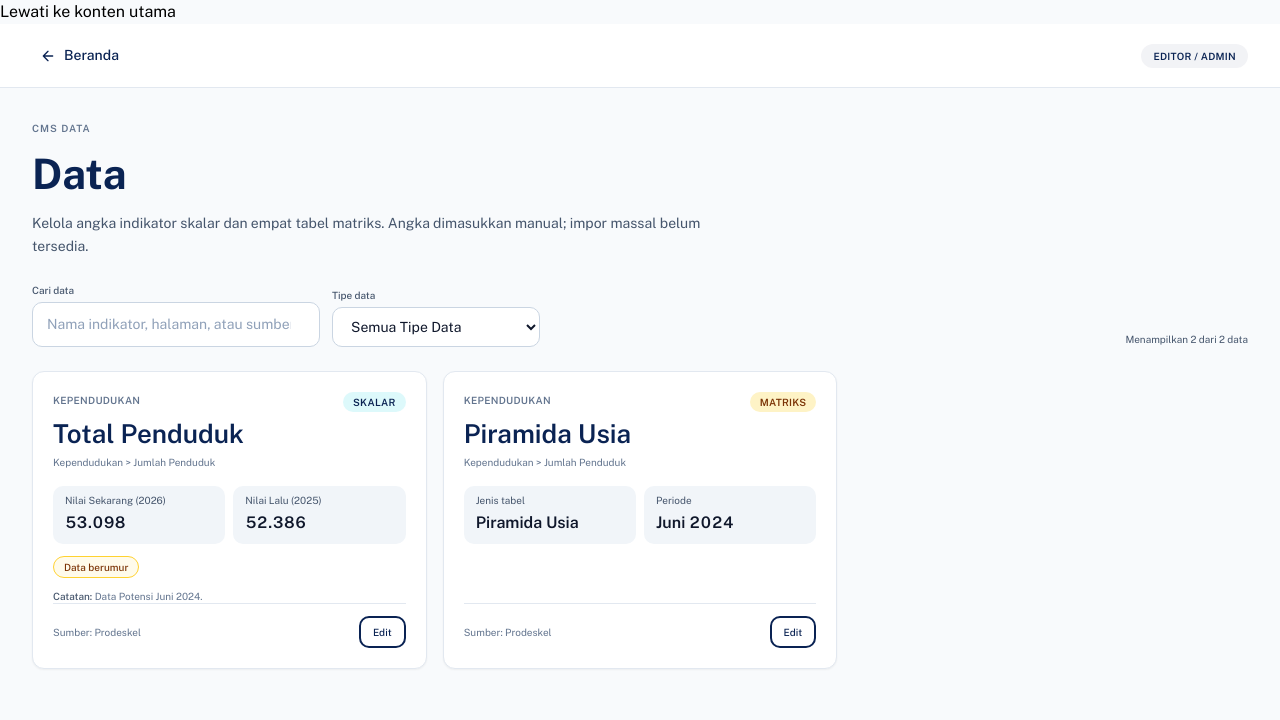
Test: DataManagementView.vue › keeps every unsaved row draft when the table save fails
Click the button "Edit" below "Jenis tabel" at {"x": 793, "y": 632}, box [770,616,816,648]
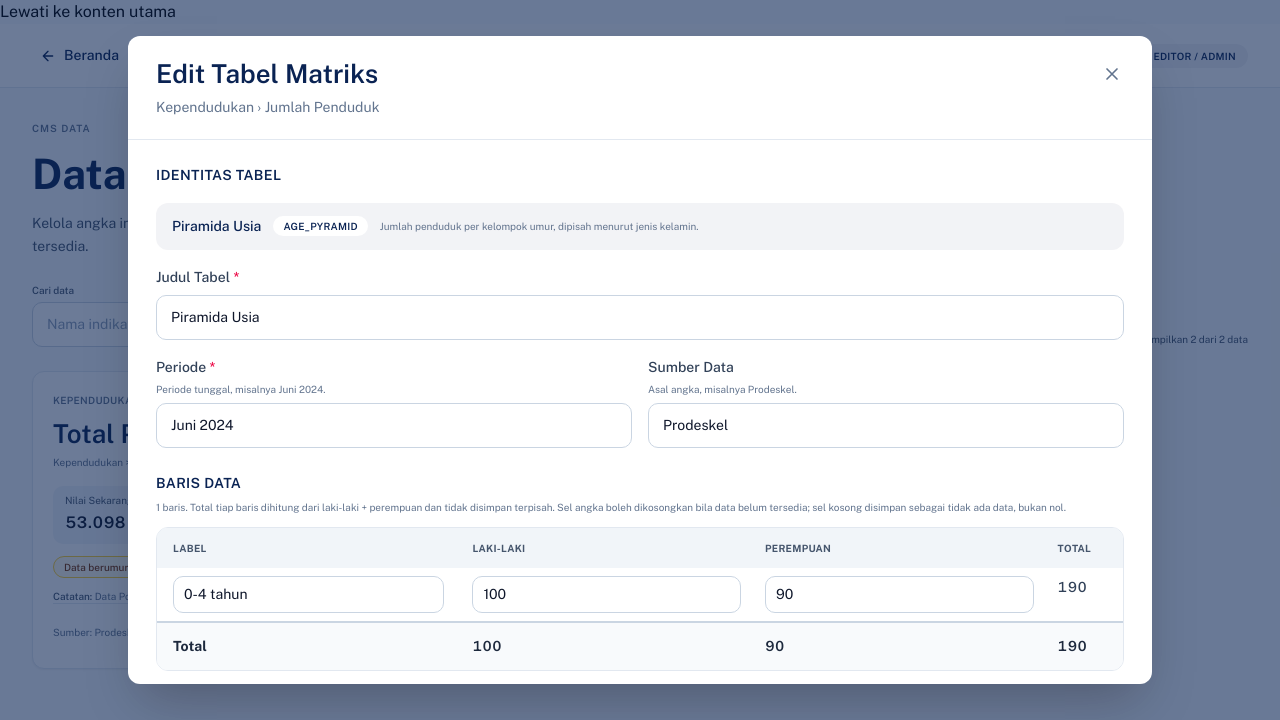
Replace the text in the field with id "table-row-row-1-male" with "250" at {"x": 607, "y": 594}, box [472,576,741,612]
(page scrolled)
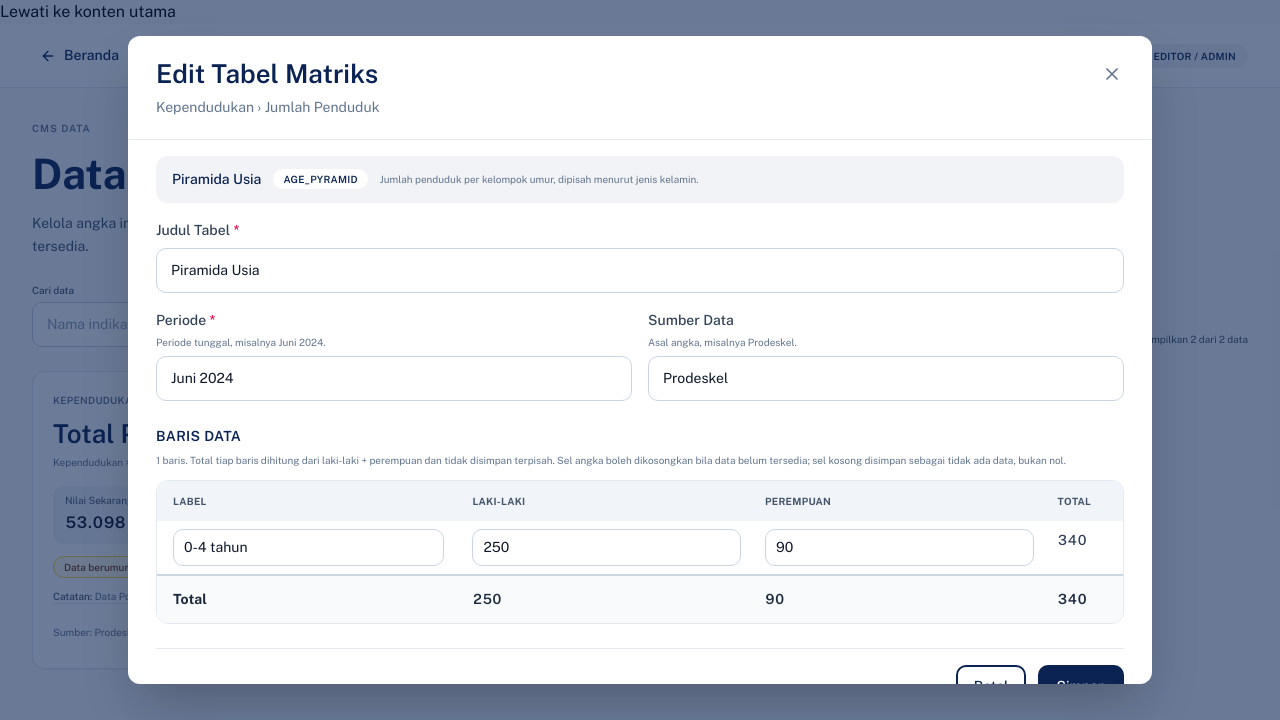
Submit the form
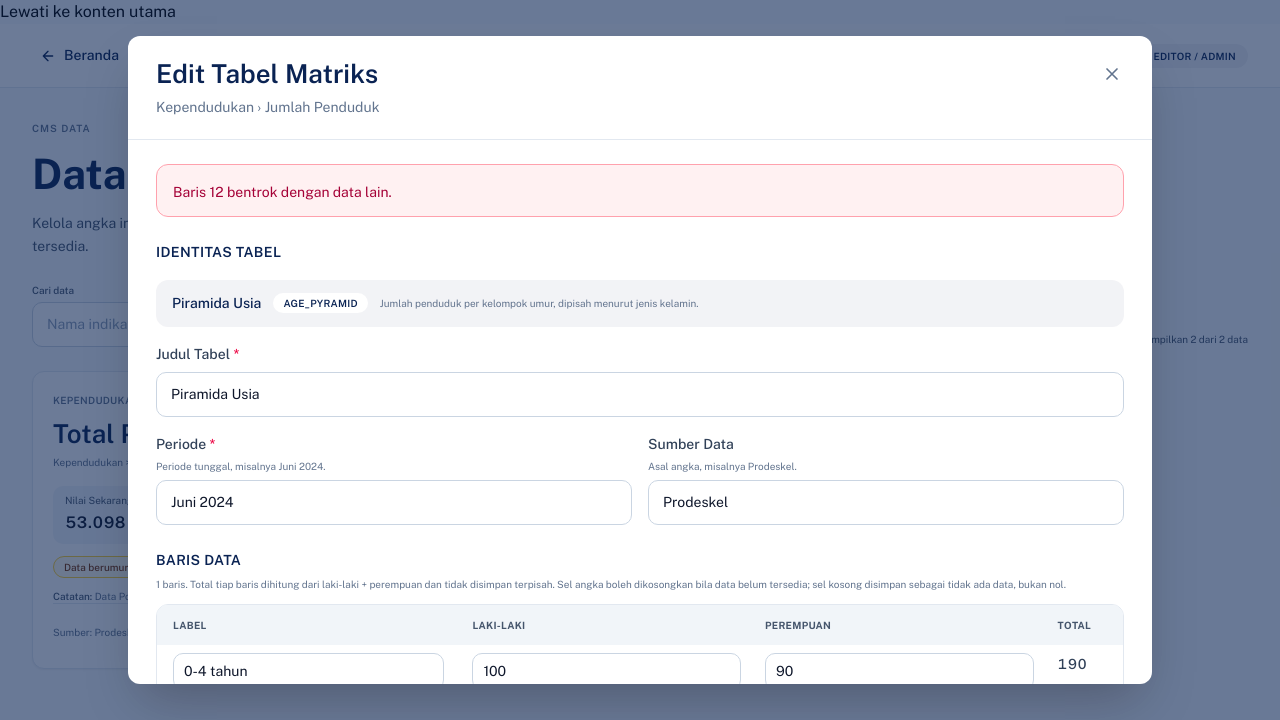
Check: the dialog is shown
Check: the dialog shows "Baris 12 bentrok dengan data lain.", box [173,184,392,200]
